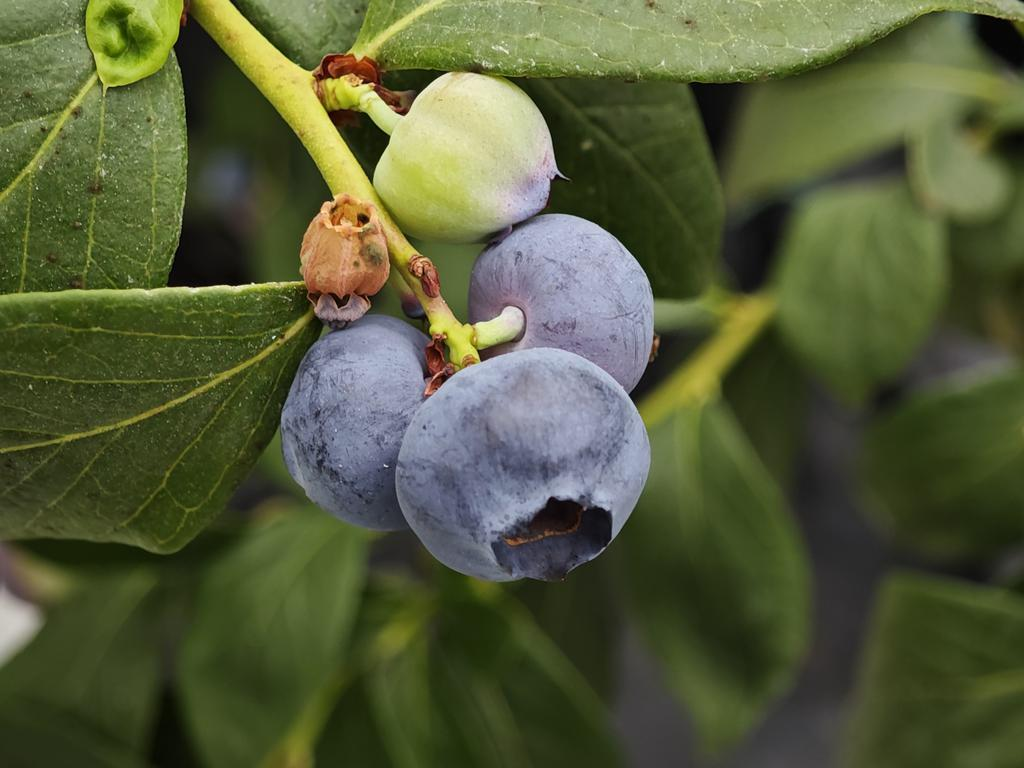RipeBlueBerry: (394, 357, 653, 578)
UnripeBlueBerry: (380, 63, 556, 241)
